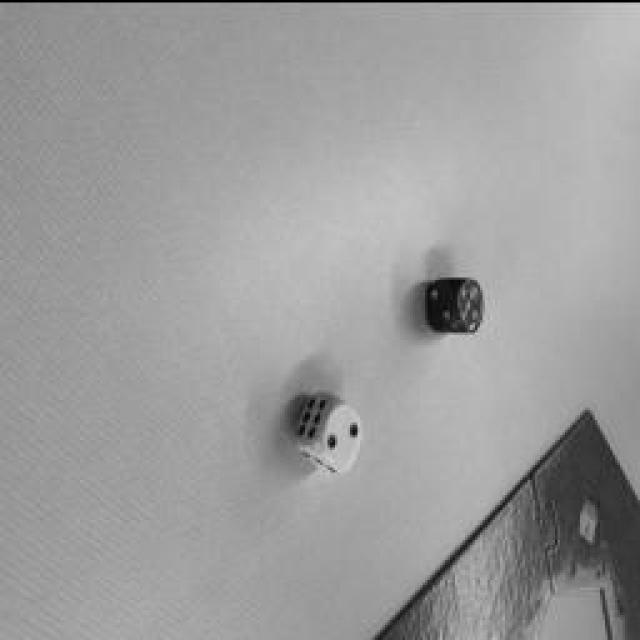dice_2: (321, 402, 361, 468)
dice_4: (457, 278, 485, 330)
